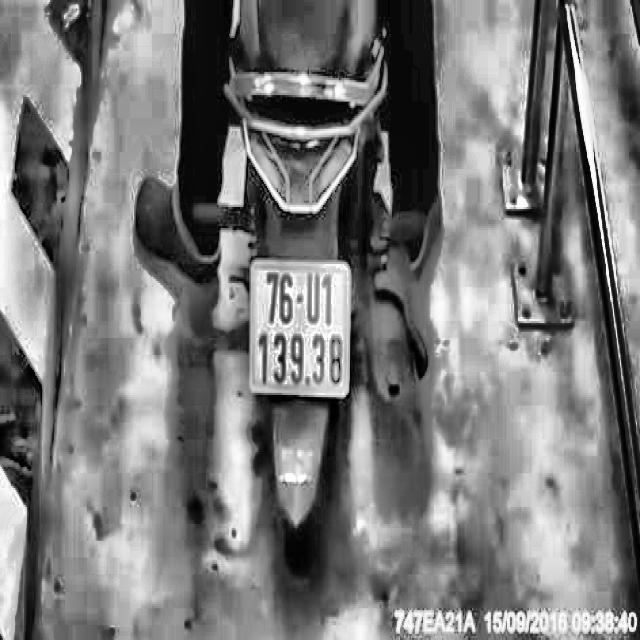plate: (244, 248, 357, 407)
